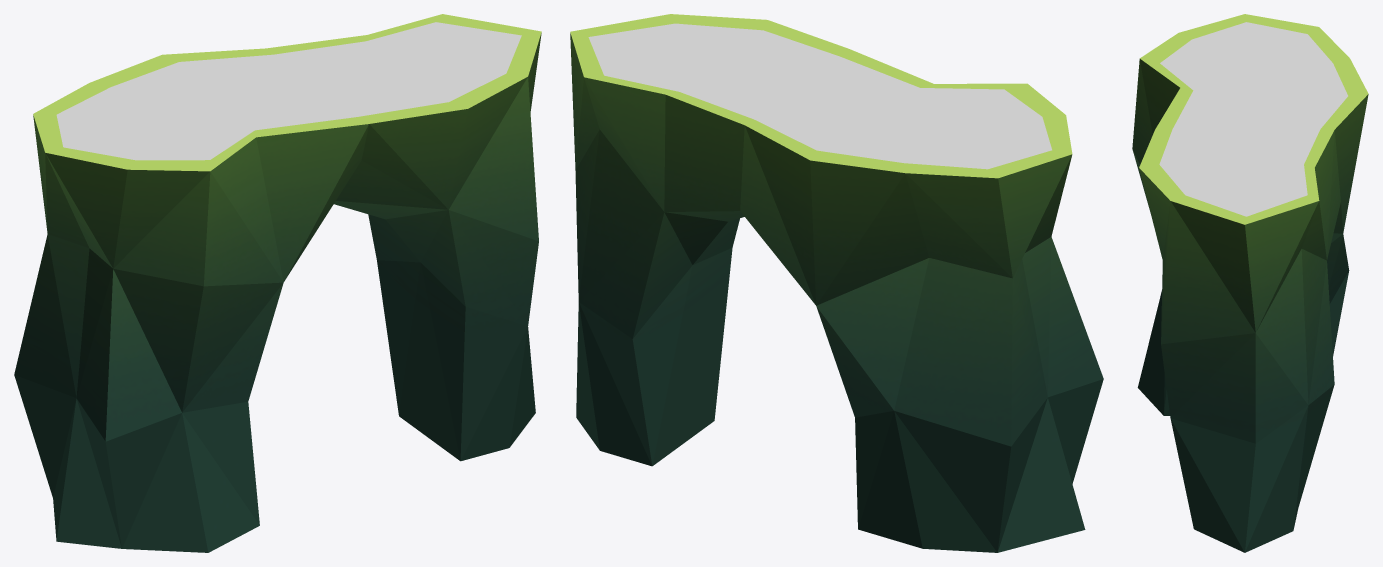
File: MOD_PlatformV2_hoogV2.fbx
3 views of the same model, side by side, from view 1: azimuth 30°, elevation 25°; view 2: azimuth 150°, elevation 25°; view 3: azimuth 270°, elevation 25° (orthographic). The views are drawn at different scales.
Parts seen in each view (by area): view 1: MOD_PlatformV2_laag; view 2: MOD_PlatformV2_laag; view 3: MOD_PlatformV2_laag.
Boxes of the visible parts, x1=… form: MOD_PlatformV2_laag: x1=14, y1=14, x2=541, y2=552; MOD_PlatformV2_laag: x1=570, y1=14, x2=1103, y2=552; MOD_PlatformV2_laag: x1=1132, y1=14, x2=1368, y2=552.
Bounding box in the file's own units: 4.75 × 3.47 × 2.25.
3 materials, 1 textured.
